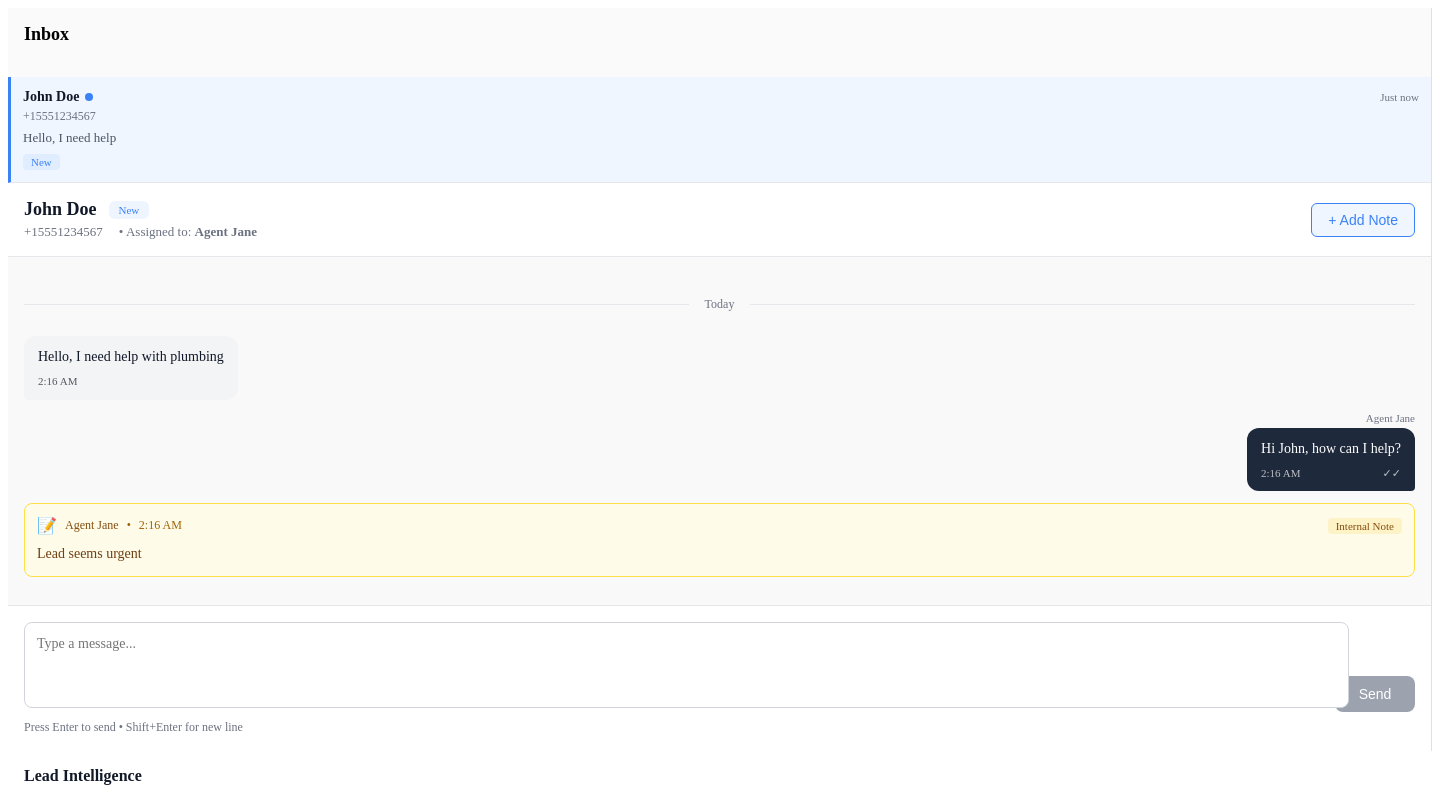
Test case: Inbox Integration Tests › creates a note successfully
Click the button "+ Add Note": (1363, 220) [1311, 202, 1415, 236]
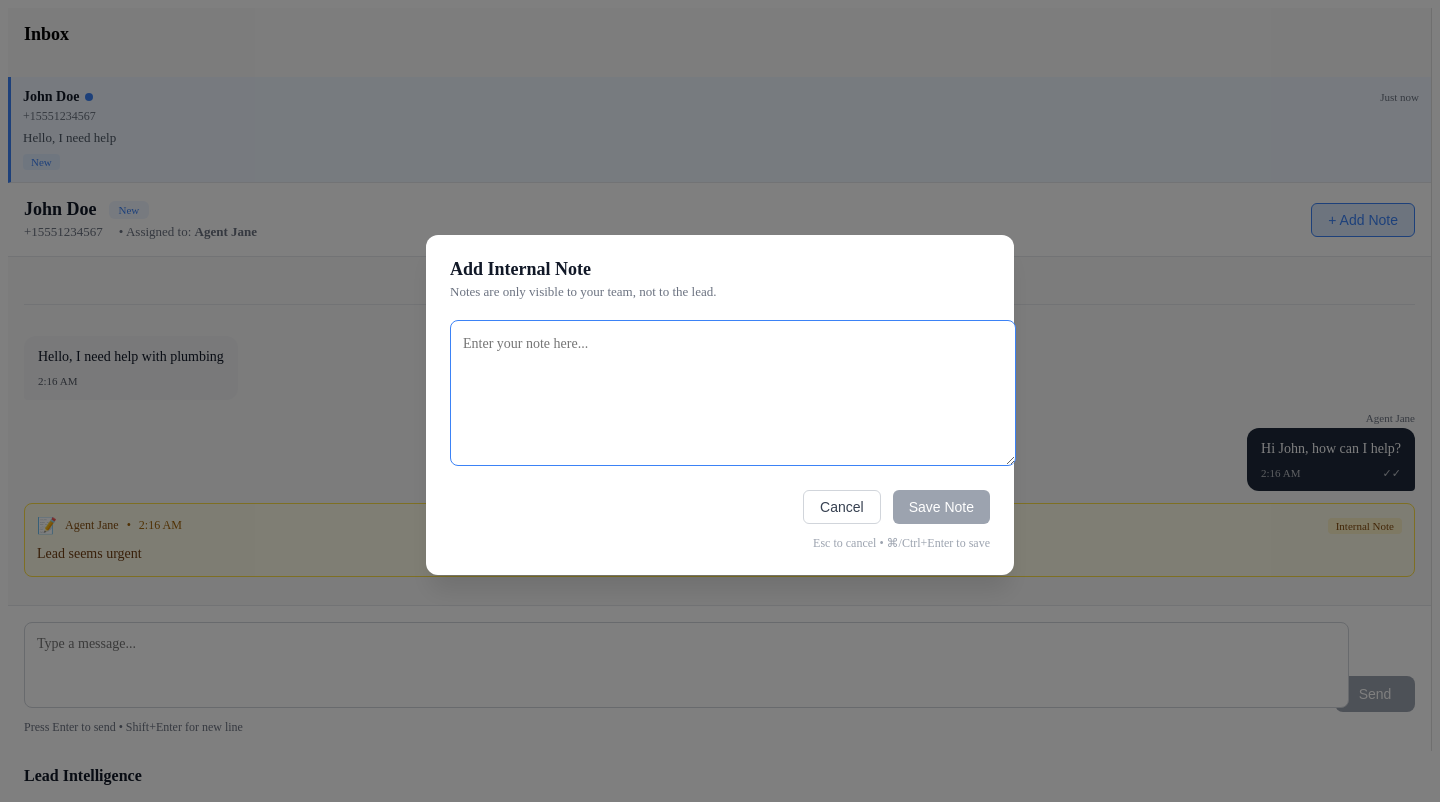
Check: the heading "Add Internal Note" is shown, box [450, 259, 591, 279]
In the text box with placeholder "Enter your note here...": (733, 393) [450, 320, 1016, 466], type "This is a test note"
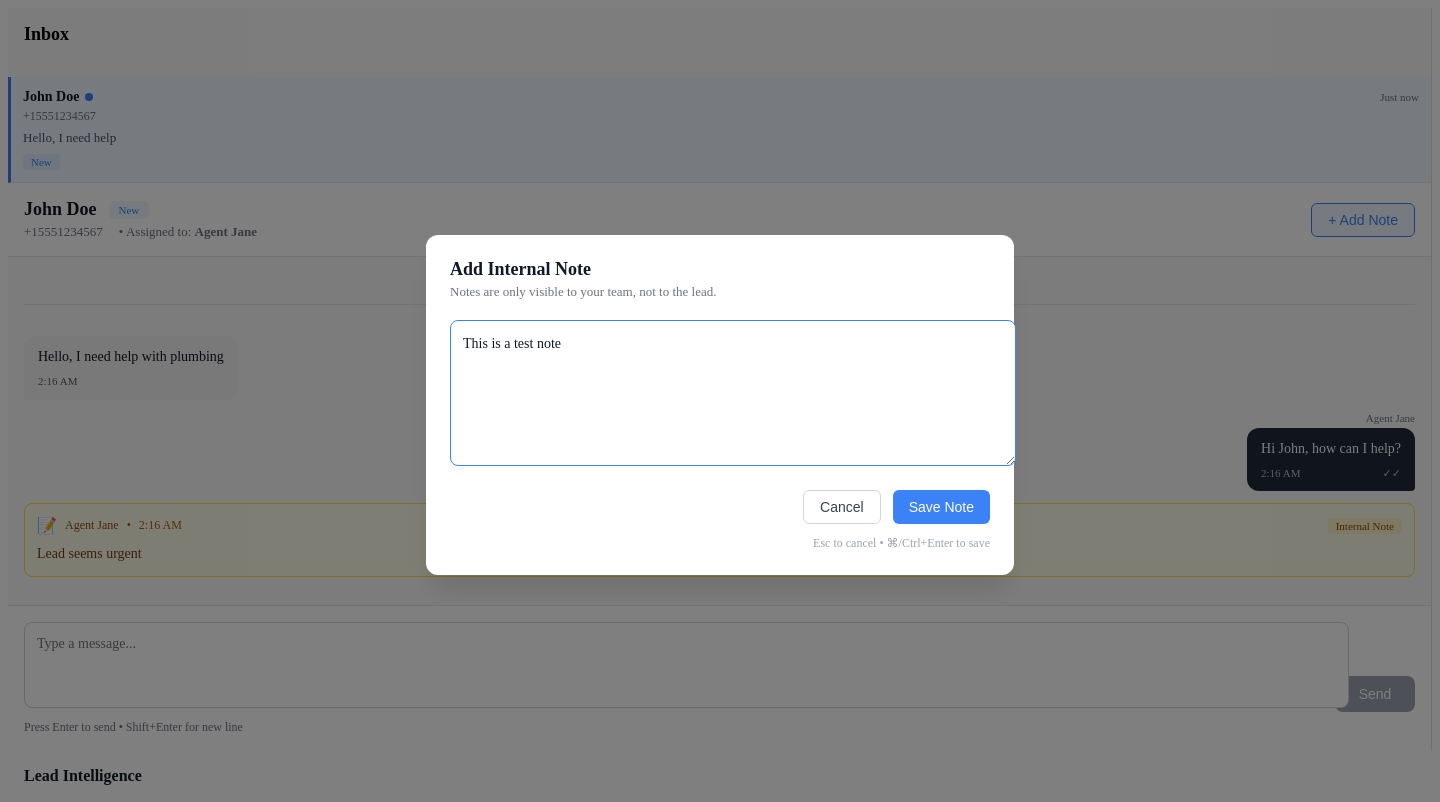
Click the button "Save Note": (941, 507) [893, 490, 990, 524]
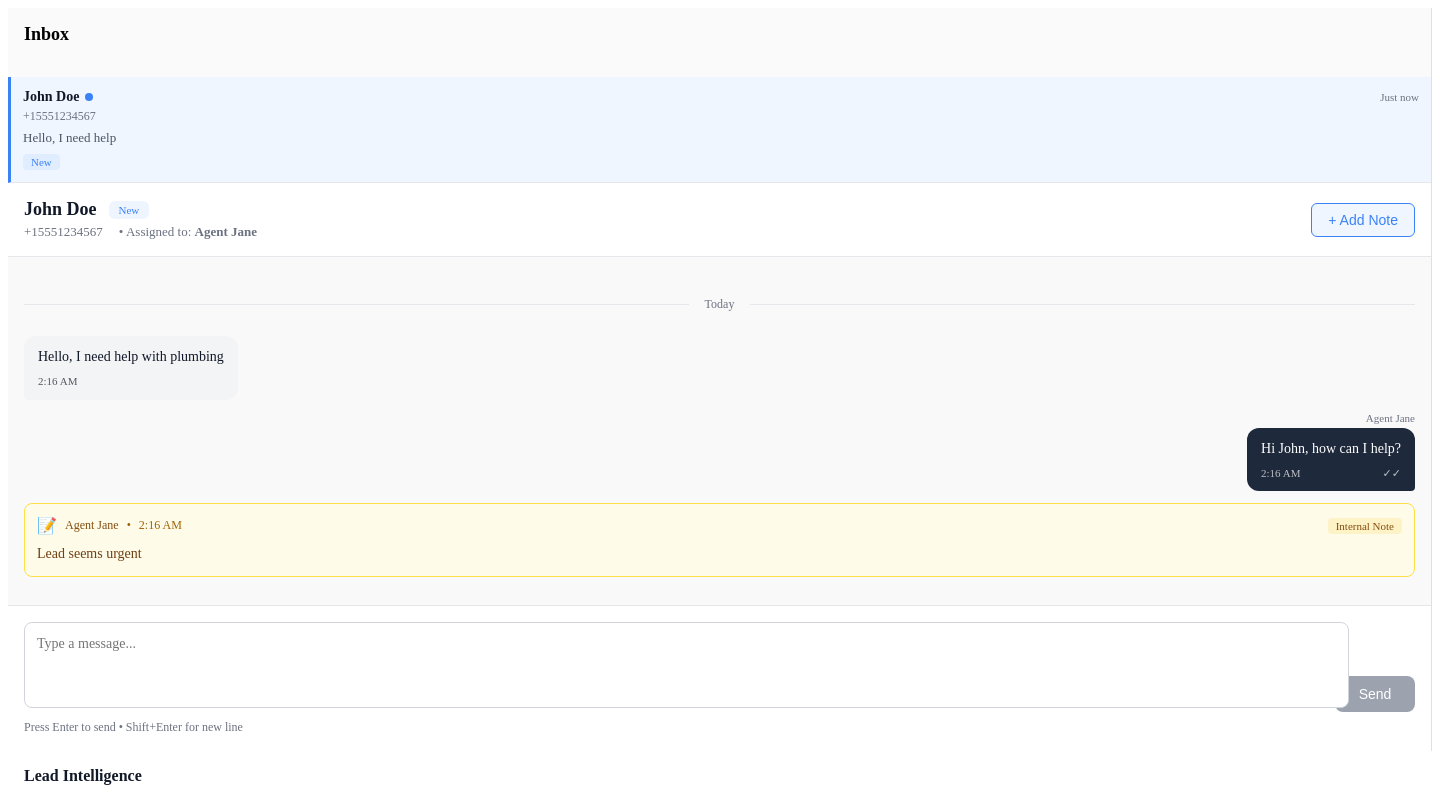
Check: the heading "Add Internal Note" is gone
